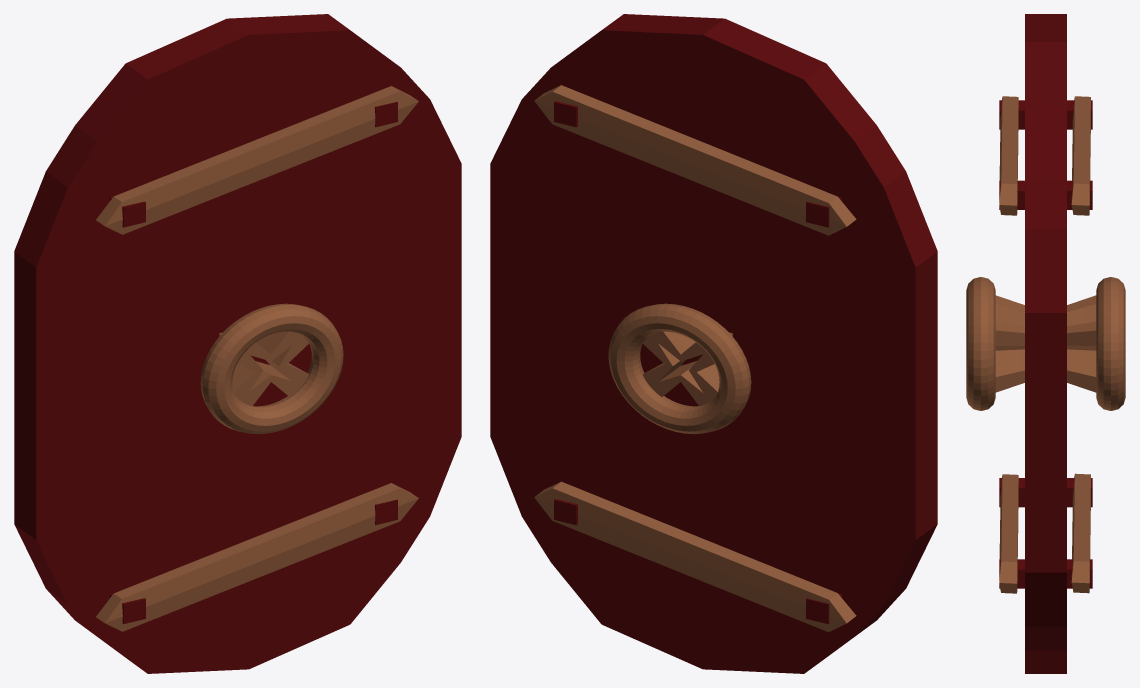
Rendered from NewDoor.fbx.
3 renders of one model, left to right at view 1: azimuth 30°, elevation 25°; view 2: azimuth 150°, elevation 25°; view 3: azimuth 270°, elevation 25°, orthographic. The views are drawn at different scales.
Parts seen in each view (by area): view 1: Door.005; view 2: Door.005; view 3: Door.005.
Boxes of the visible parts, <box> form: Door.005: <box>14,14,461,673</box>; Door.005: <box>490,14,937,673</box>; Door.005: <box>966,14,1125,673</box>.
Bounding box in the file's own units: 171 × 243 × 58.09.
